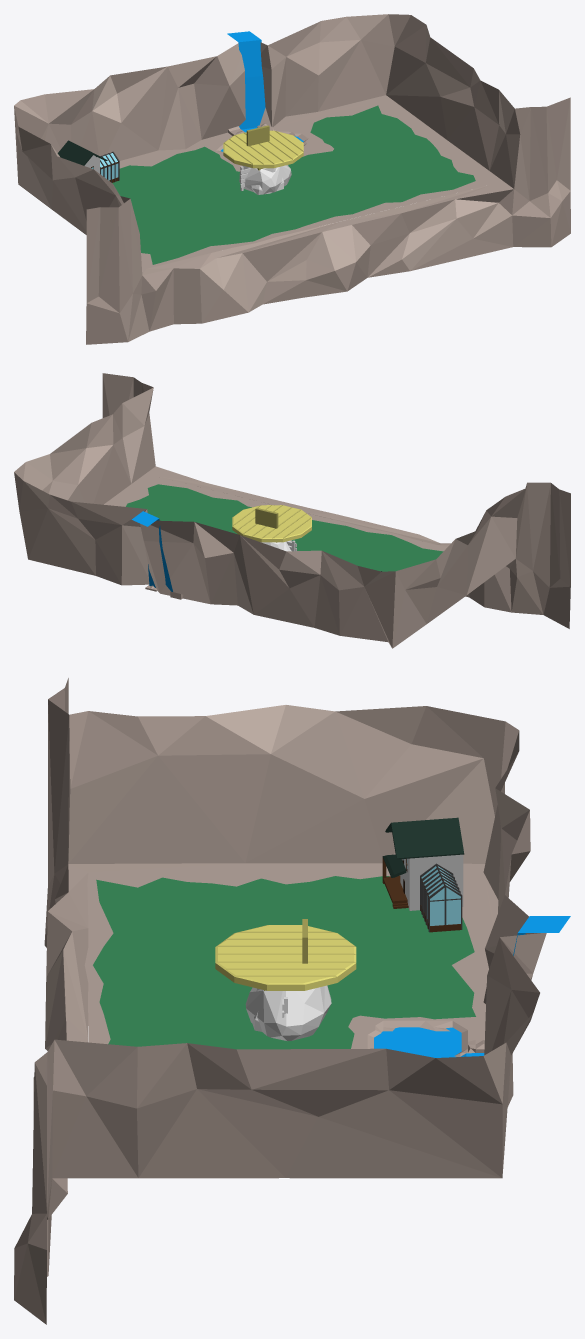
File: Level.fbx
The picture shows the model from 3 angles, top to bottom: view 1: azimuth 30°, elevation 25°; view 2: azimuth 150°, elevation 25°; view 3: azimuth 270°, elevation 25°; orthographic projection. The views are drawn at different scales.
Visible parts, largest first — view 1: Walls, Ground_Main, Table, Waterfall, Ground_Main.001, Rock_01, House, Greenhouse; view 2: Walls, Ground_Main, Table, Waterfall, Chair; view 3: Walls, Ground_Main, Table, House, Rock_01, Greenhouse, Water, Ground_Main.001, Waterfall.
Boxes of the visible parts, x1,y1,x2,y2 form: Walls: (14,14,570,344); Ground_Main: (112,101,492,268); Table: (223,130,303,168); Waterfall: (227,31,265,132); Ground_Main.001: (208,123,328,167); Rock_01: (239,165,291,194); House: (57,140,107,173); Greenhouse: (100,151,119,182); Walls: (14,373,570,648); Ground_Main: (116,476,446,571); Table: (232,505,311,542); Waterfall: (131,511,172,591); Chair: (255,508,278,542); Walls: (14,678,546,1324); Ground_Main: (84,872,483,1049); Table: (215,925,356,990); House: (382,817,464,910); Rock_01: (245,985,331,1041); Greenhouse: (420,863,462,932); Water: (374,1027,461,1057); Ground_Main.001: (360,1020,484,1056); Waterfall: (460,916,570,1056).
Size of the model in its own units: 4411 by 1218 by 2537.
